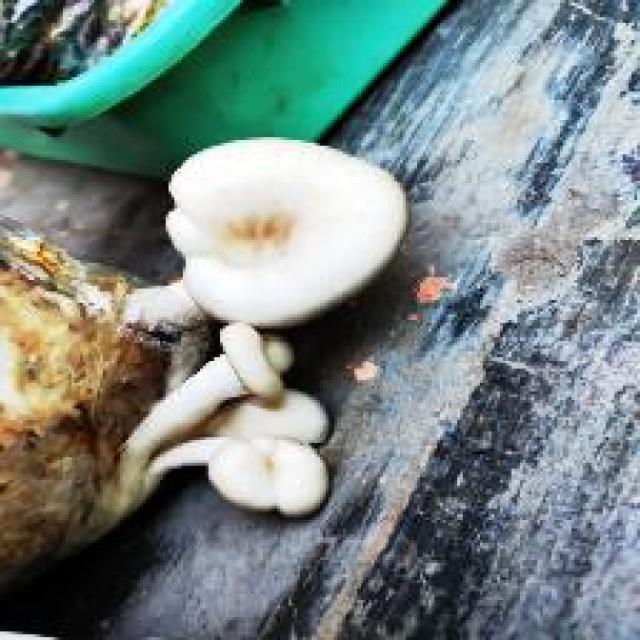field-mushroom: (163, 132, 408, 328)
